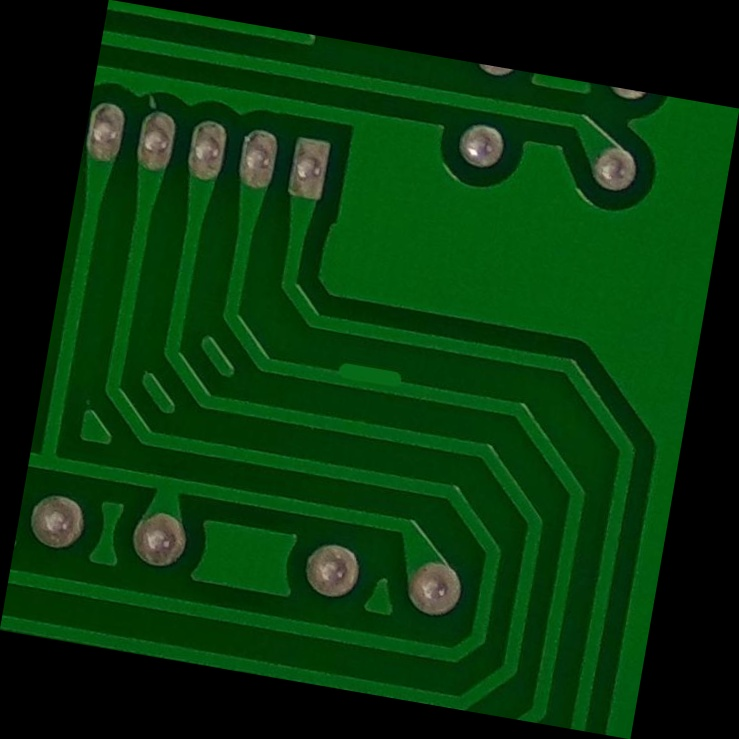spur: (326, 337, 412, 403)
